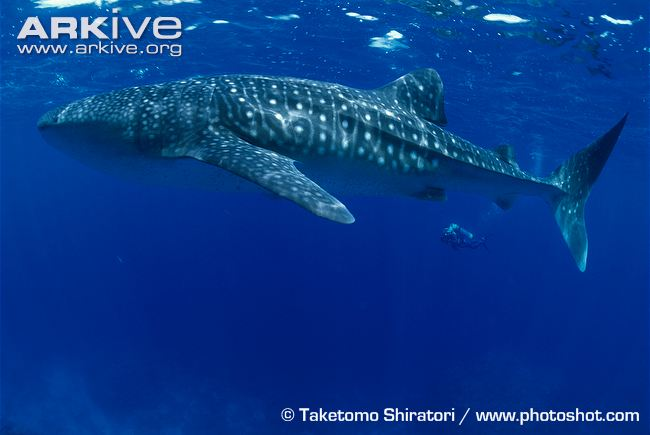Rhincodon_typusw: (19, 47, 628, 285)
